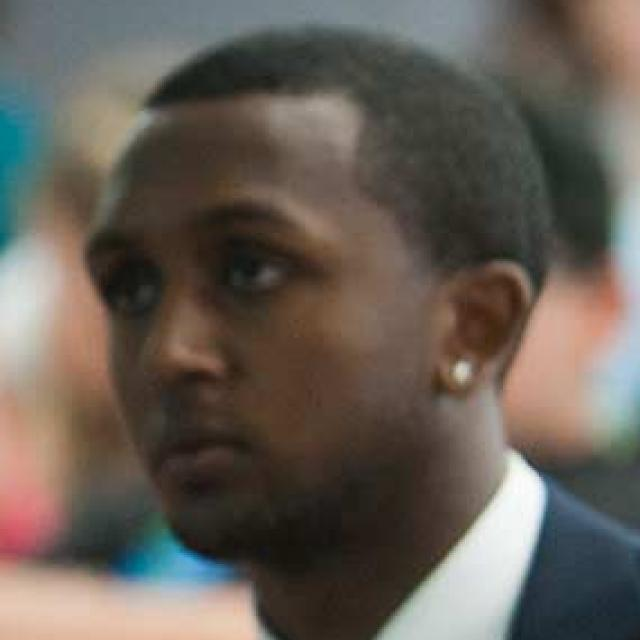Looking forward: (85, 98, 413, 559)
